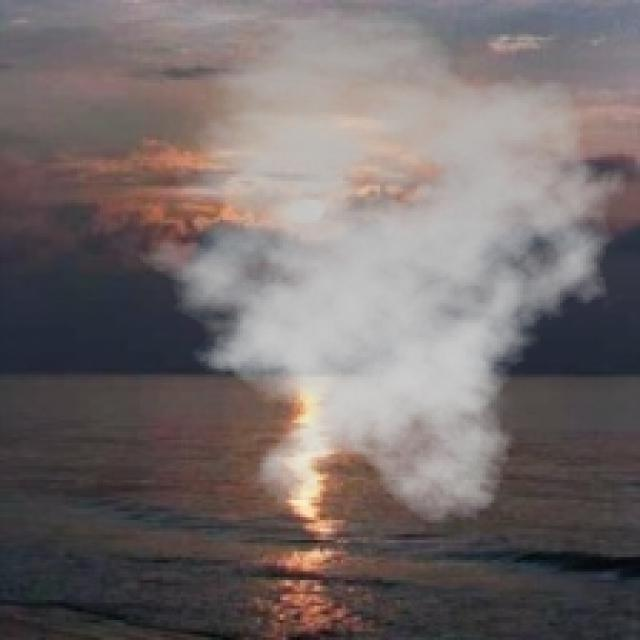smoke: (117, 6, 637, 528)
